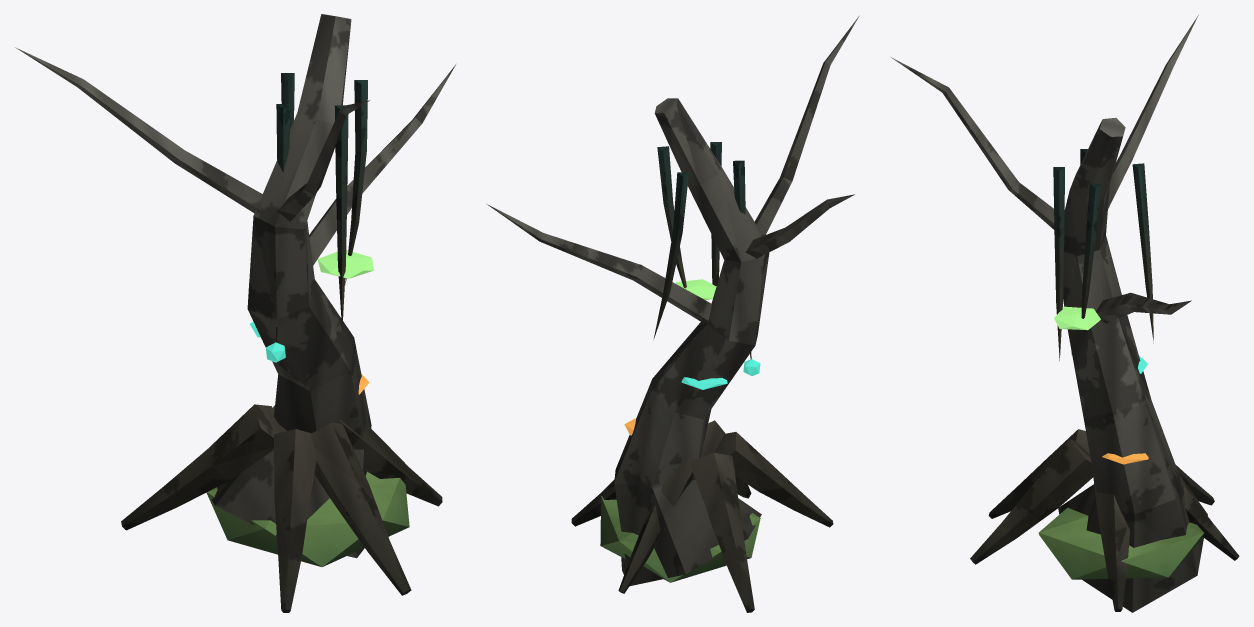
File: fen_tree_dead.glb
3 views of the same model, side by side, from view 1: azimuth 30°, elevation 25°; view 2: azimuth 150°, elevation 25°; view 3: azimuth 270°, elevation 25° (orthographic). The views are drawn at different scales.
Parts seen in each view (by area): view 1: fen_tree_dead; view 2: fen_tree_dead; view 3: fen_tree_dead.
Part boxes in pixels (x1,y1,x2,y2): fen_tree_dead: (15,14,455,612); fen_tree_dead: (487,15,859,612); fen_tree_dead: (891,15,1239,612).
Size of the model in its own units: 3.81 by 4.84 by 3.08.
3 materials, 3 textured.
